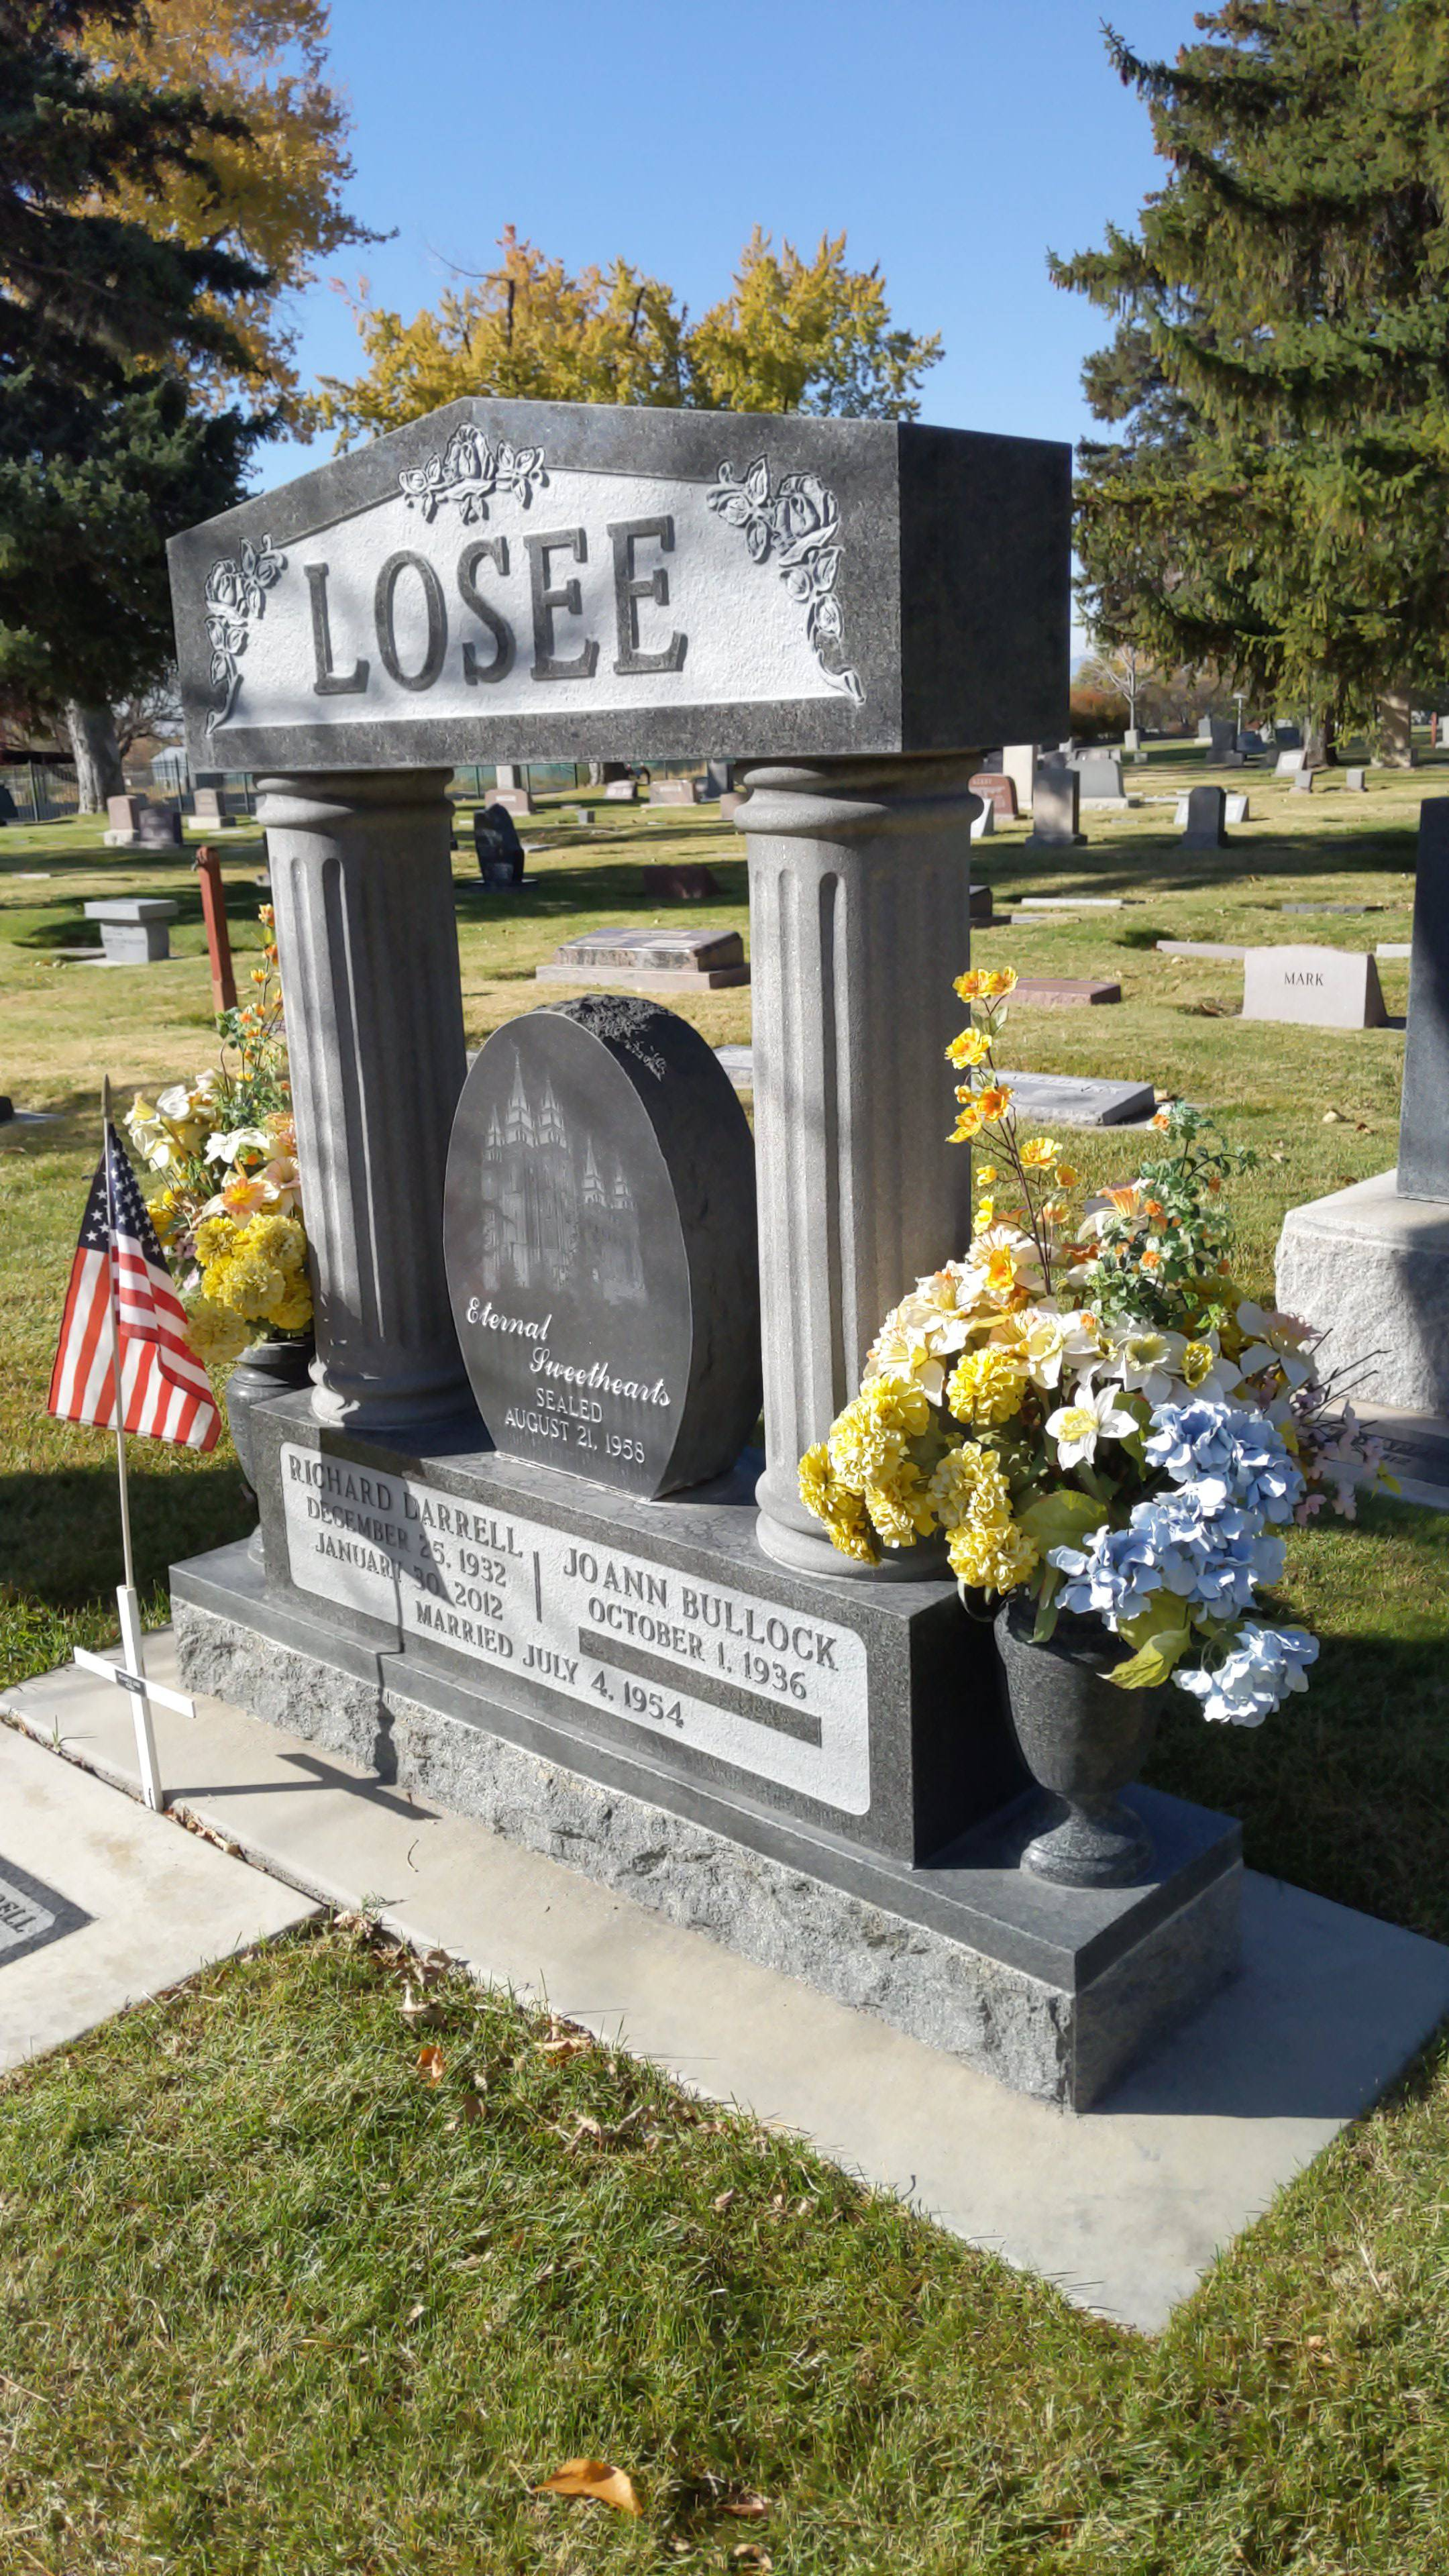statue: (165, 389, 1246, 1990)
